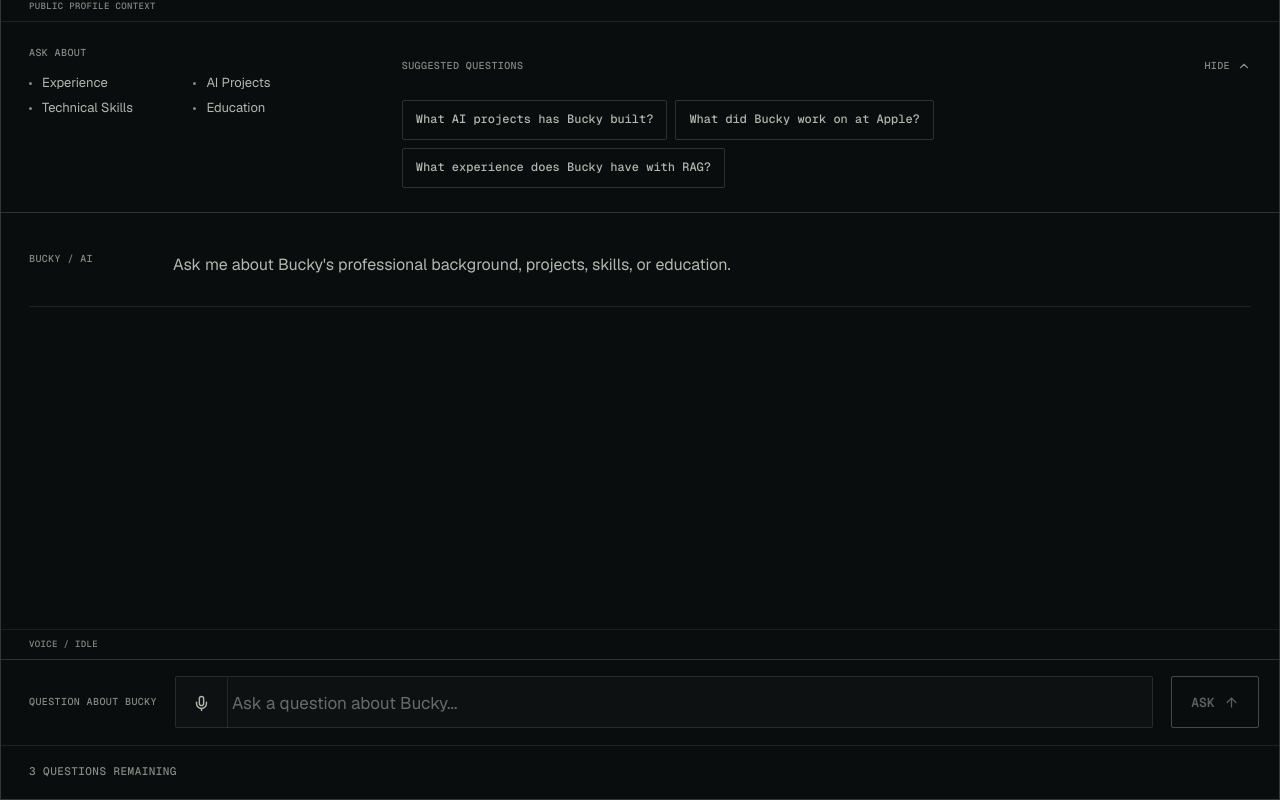
Test: AskBucky voice input › handles microphone permission denial without consuming quota
The width and height of the screenshot is (1280, 800).
(page scrolled)
Check: the field labelled "Question about Bucky" is enabled, box [228, 677, 1152, 729]
Click the button named "Start voice question". click: (202, 703)
box: [176, 678, 228, 728]
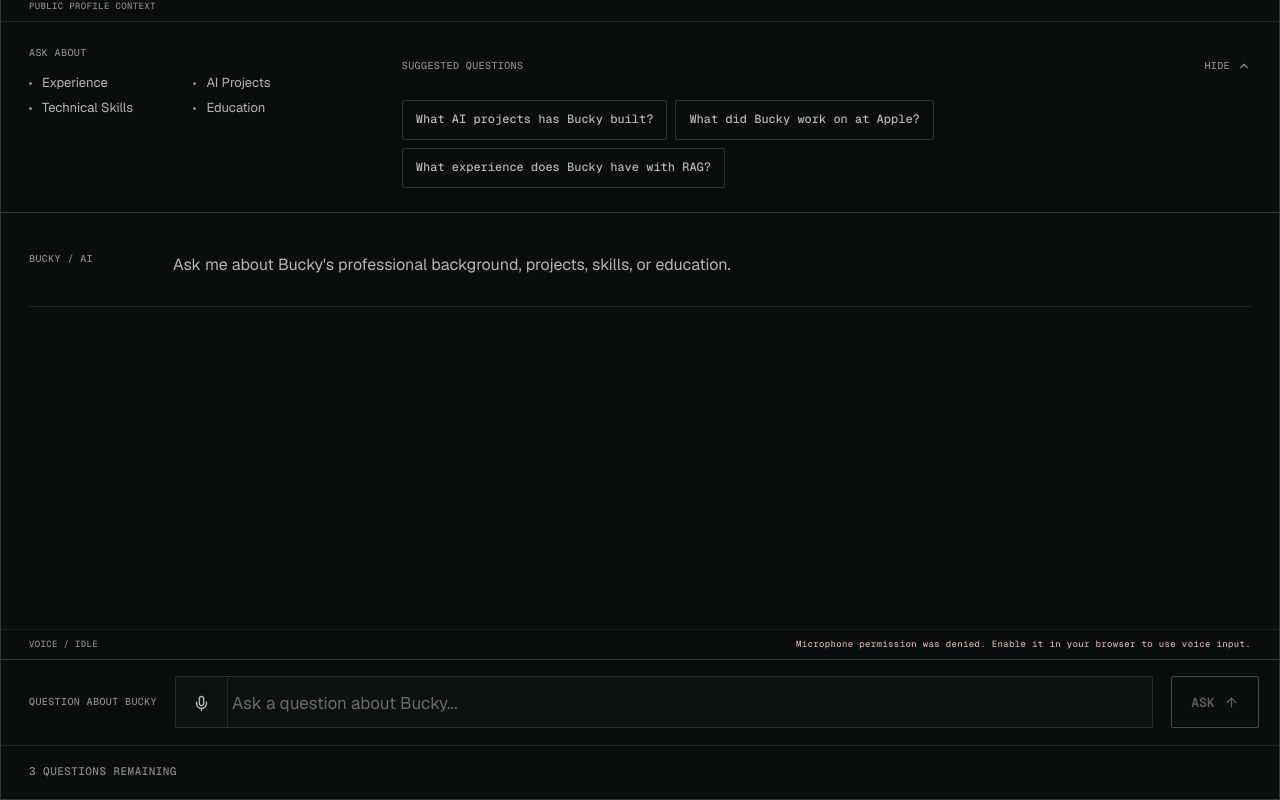
Check: the text "3 questions remaining" is shown, box [29, 764, 177, 780]
Check: the text "Microphone permission was denied" is shown, box [796, 638, 1251, 650]
